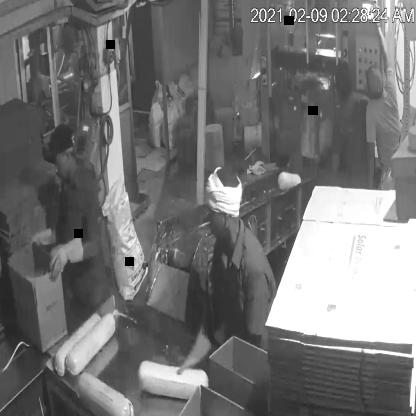glove: (181, 324, 213, 375), (46, 241, 86, 277), (26, 224, 56, 256)
no_glove: (374, 13, 391, 73), (362, 137, 380, 191)
